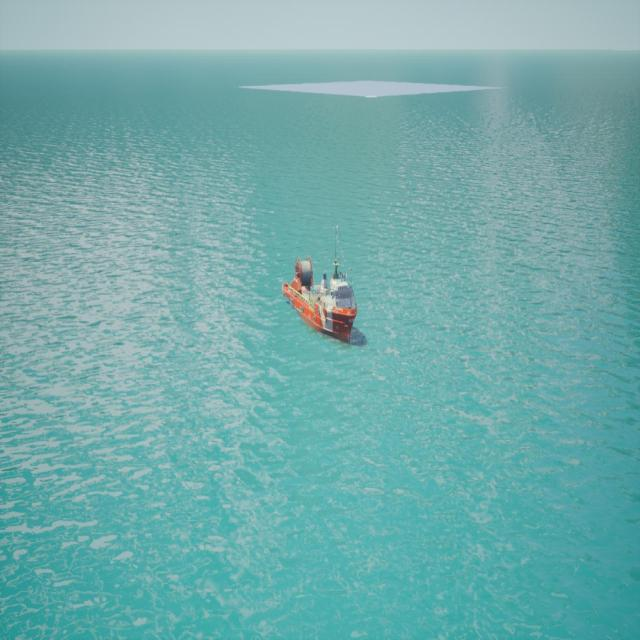tug boat: (281, 223, 364, 348)
